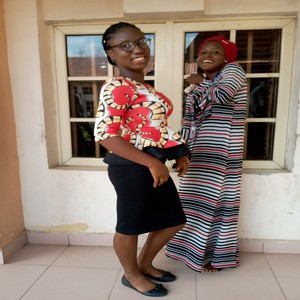Fulokoja_female_student: (96, 18, 178, 293), (189, 36, 247, 268)
